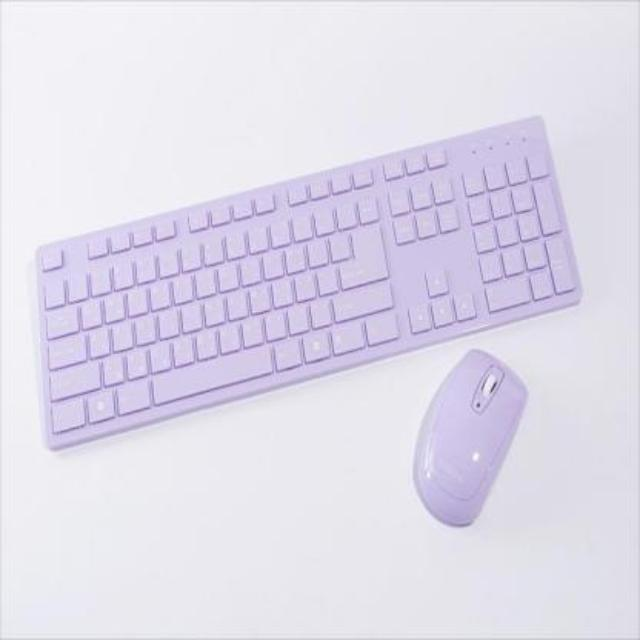Computer-Keyboard: (26, 115, 630, 427)
Computer-Mouse: (404, 346, 532, 546)
